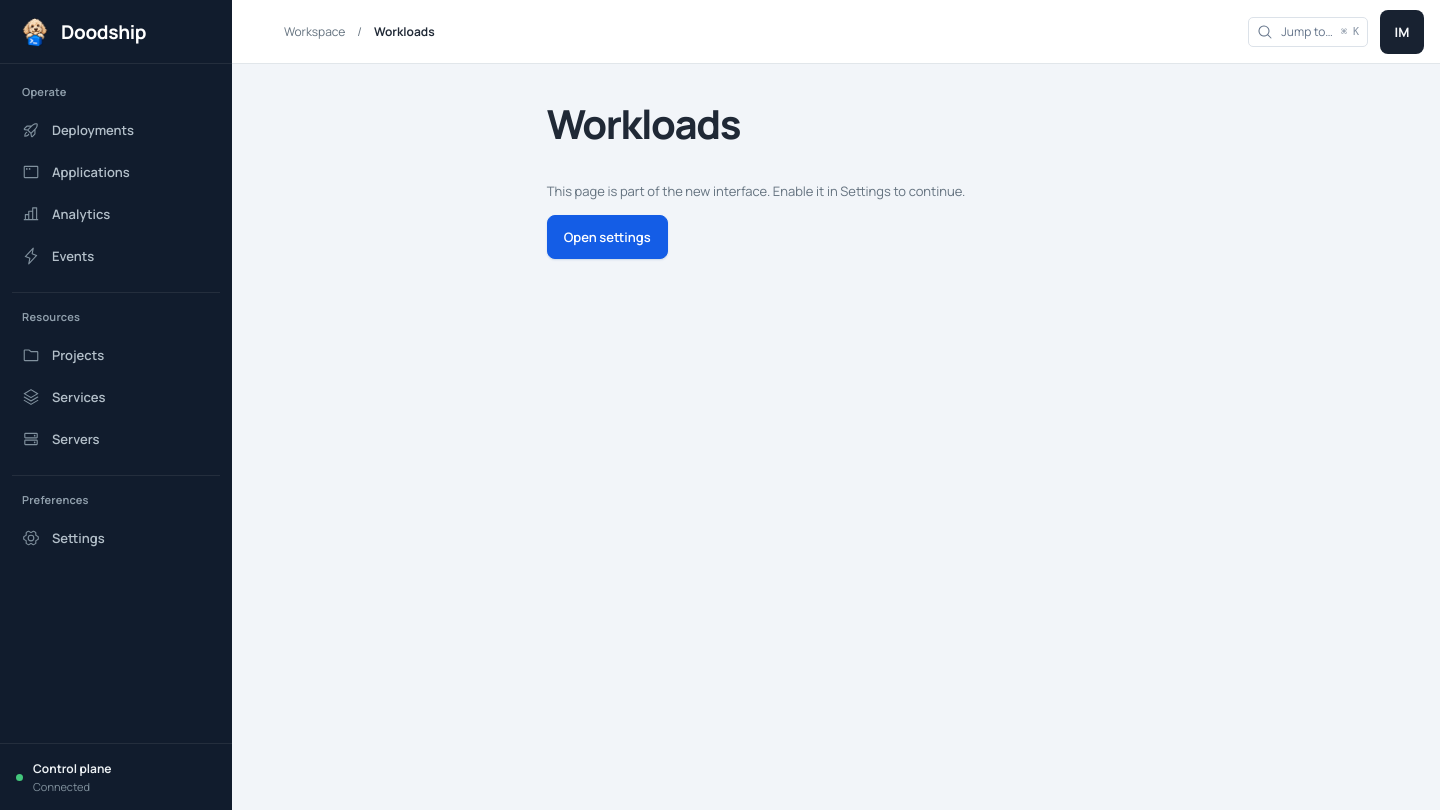
gates direct route /workloads/parallel before mounting resource readers
Expected: the text "This page is part of the new interface. Enable it in Settings to continue." is shown, [547,182,965,200]
Click the button "Open settings": (607, 237) [547,215,668,259]
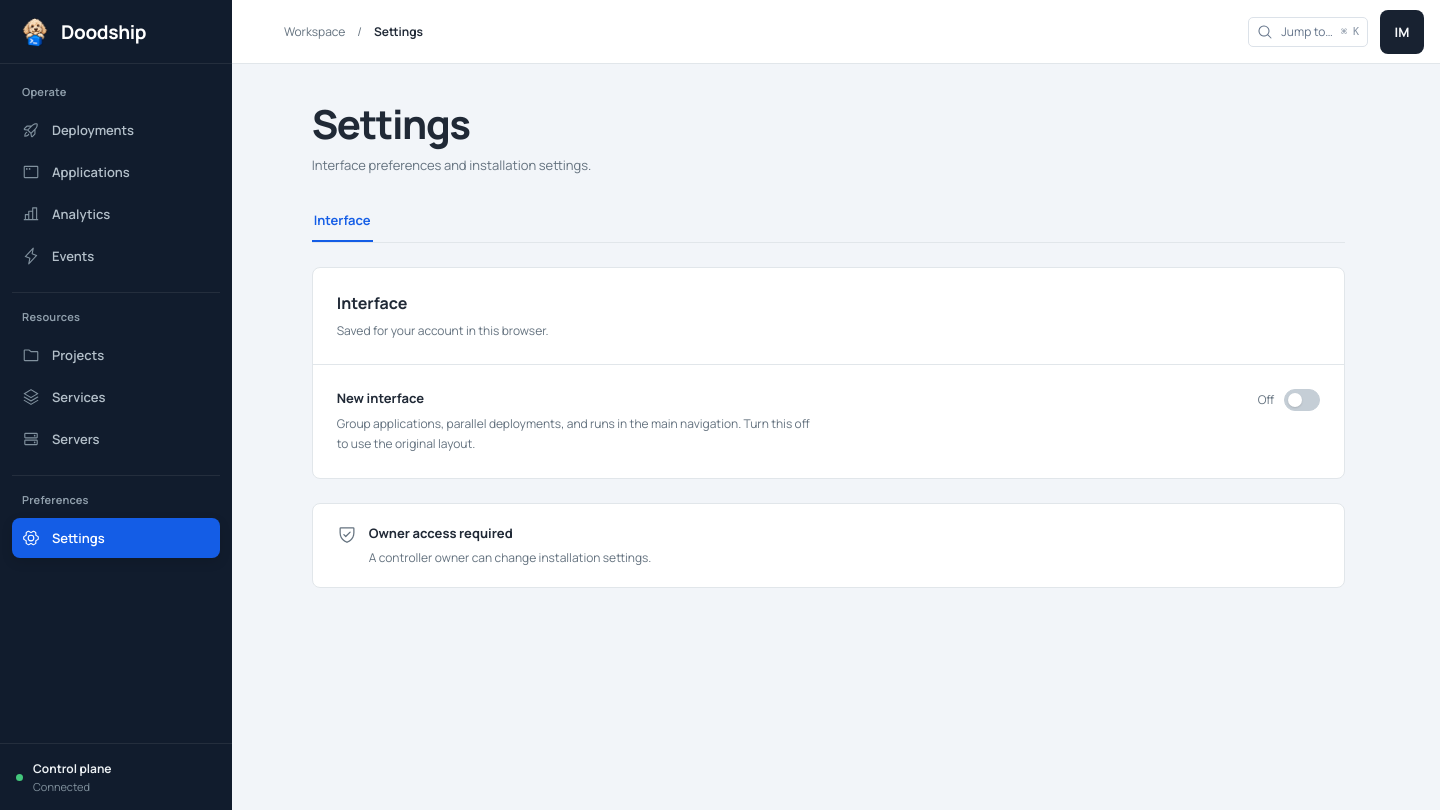
Expected: the switch labelled "New interface" is shown, [337,389,424,407]
